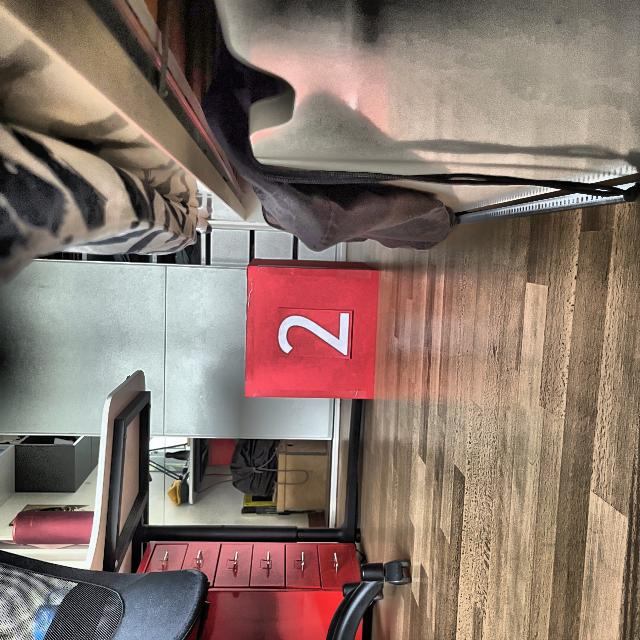red box: (248, 260, 376, 396)
two: (276, 311, 353, 360)
